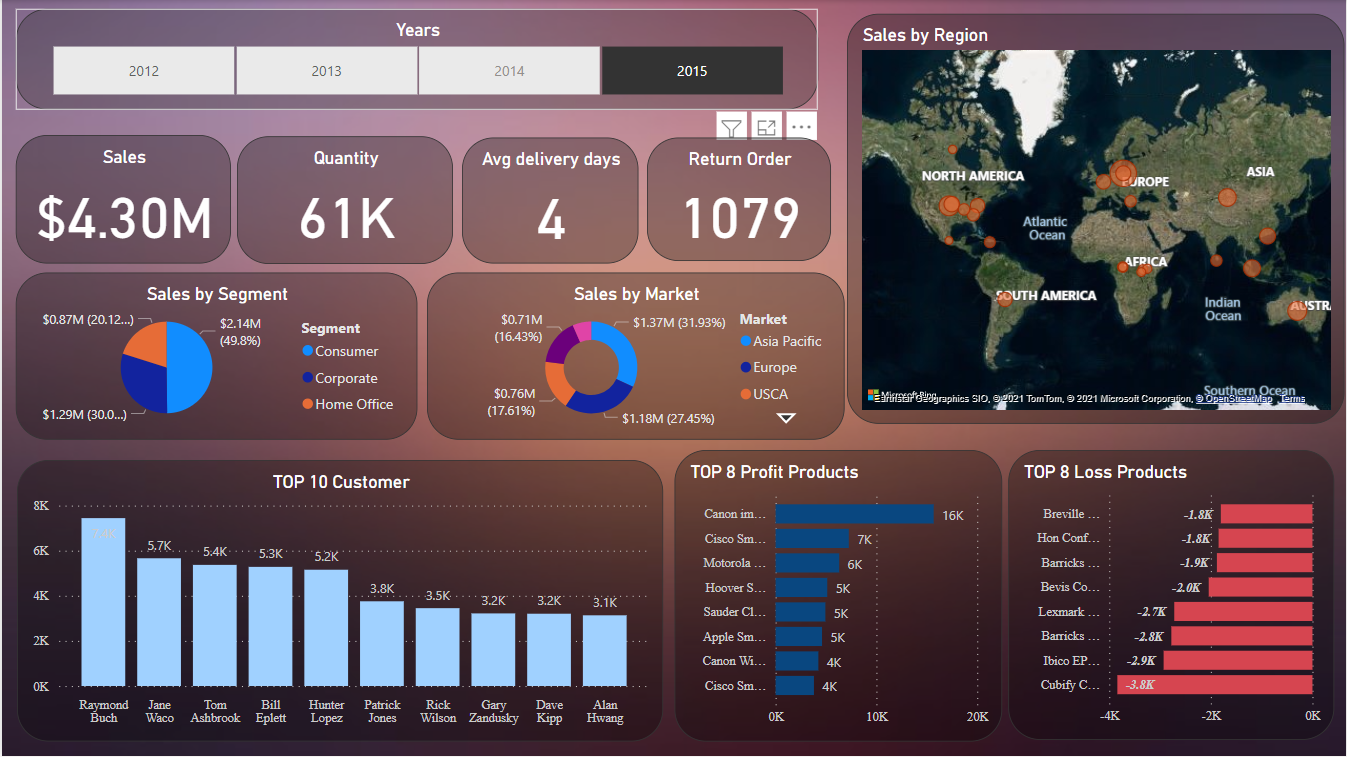

What the dashboard file says about the page in this screenshot:
{"tool":"powerbi","page":{"name":"Page 1","canvas":[1280,720],"ordinal":0},"visuals":[{"type":"card","title":"Sales","fields":{"Values":["Orders.Sales"]},"box":[13.1,128.5,204.7,122.6],"z":0},{"type":"card","title":"Quantity","fields":{"Values":["Orders.Quantity"]},"box":[223.7,129.7,205.9,121.4],"z":1000},{"type":"card","title":"Avg delivery days","fields":{"Values":["Orders.Delivery Days"]},"box":[438,130.9,167.8,120.2],"z":2000},{"type":"slicer","title":"Years","fields":{"Values":["Orders.Year"]},"box":[13.1,8.3,764,96.4],"z":3000},{"type":"card","title":"Return Order","fields":{"Values":["Returns.Return Order"]},"box":[614.1,130.9,174.9,117.8],"z":4000},{"type":"map","fields":{"Size":["Orders.Sales"],"Category":["Orders.Region"]},"box":[804.5,13.1,473.7,390.3],"z":5000},{"type":"barChart","title":"TOP 8 Profit Products","fields":{"Y":["Orders.Profit"],"Category":["Orders.Product Name"]},"box":[640.3,428.4,311.8,277.3],"z":6000},{"type":"barChart","title":"TOP 8 Loss Products","fields":{"Y":["Orders.Profit"],"Category":["Orders.Product Name"]},"box":[958,428.4,310.6,276.1],"z":7000},{"type":"donutChart","fields":{"Y":["Orders.Sales"],"Category":["Orders.Market"]},"box":[404.6,259.4,397.5,159.5],"z":8000},{"type":"pieChart","fields":{"Category":["Orders.Segment"],"Y":["Orders.Sales"]},"box":[13.1,259.4,382,159.5],"z":9000},{"type":"columnChart","title":"TOP 10 Customer","fields":{"Y":["Orders.Profit"],"Category":["Orders.Customer Name"]},"box":[13.7,438.1,615.3,267.8],"z":9001}]}

Visuals, with their boxes in screenshot pixels (x1, y1, x2, y2), scaled from the page's 1280x720 canvas onto the 1347x757 screenshot:
"Sales" card: {"left": 14, "top": 135, "right": 229, "bottom": 264}
"Quantity" card: {"left": 235, "top": 136, "right": 452, "bottom": 264}
"Avg delivery days" card: {"left": 461, "top": 138, "right": 638, "bottom": 264}
"Years" slicer: {"left": 14, "top": 9, "right": 818, "bottom": 110}
"Return Order" card: {"left": 646, "top": 138, "right": 830, "bottom": 261}
map - Orders.Sales x Orders.Region: {"left": 847, "top": 14, "right": 1345, "bottom": 424}
"TOP 8 Profit Products" barChart: {"left": 674, "top": 450, "right": 1002, "bottom": 742}
"TOP 8 Loss Products" barChart: {"left": 1008, "top": 450, "right": 1335, "bottom": 741}
donutChart - Orders.Sales x Orders.Market: {"left": 426, "top": 273, "right": 844, "bottom": 440}
pieChart - Orders.Segment x Orders.Sales: {"left": 14, "top": 273, "right": 416, "bottom": 440}
"TOP 10 Customer" columnChart: {"left": 14, "top": 461, "right": 662, "bottom": 742}
